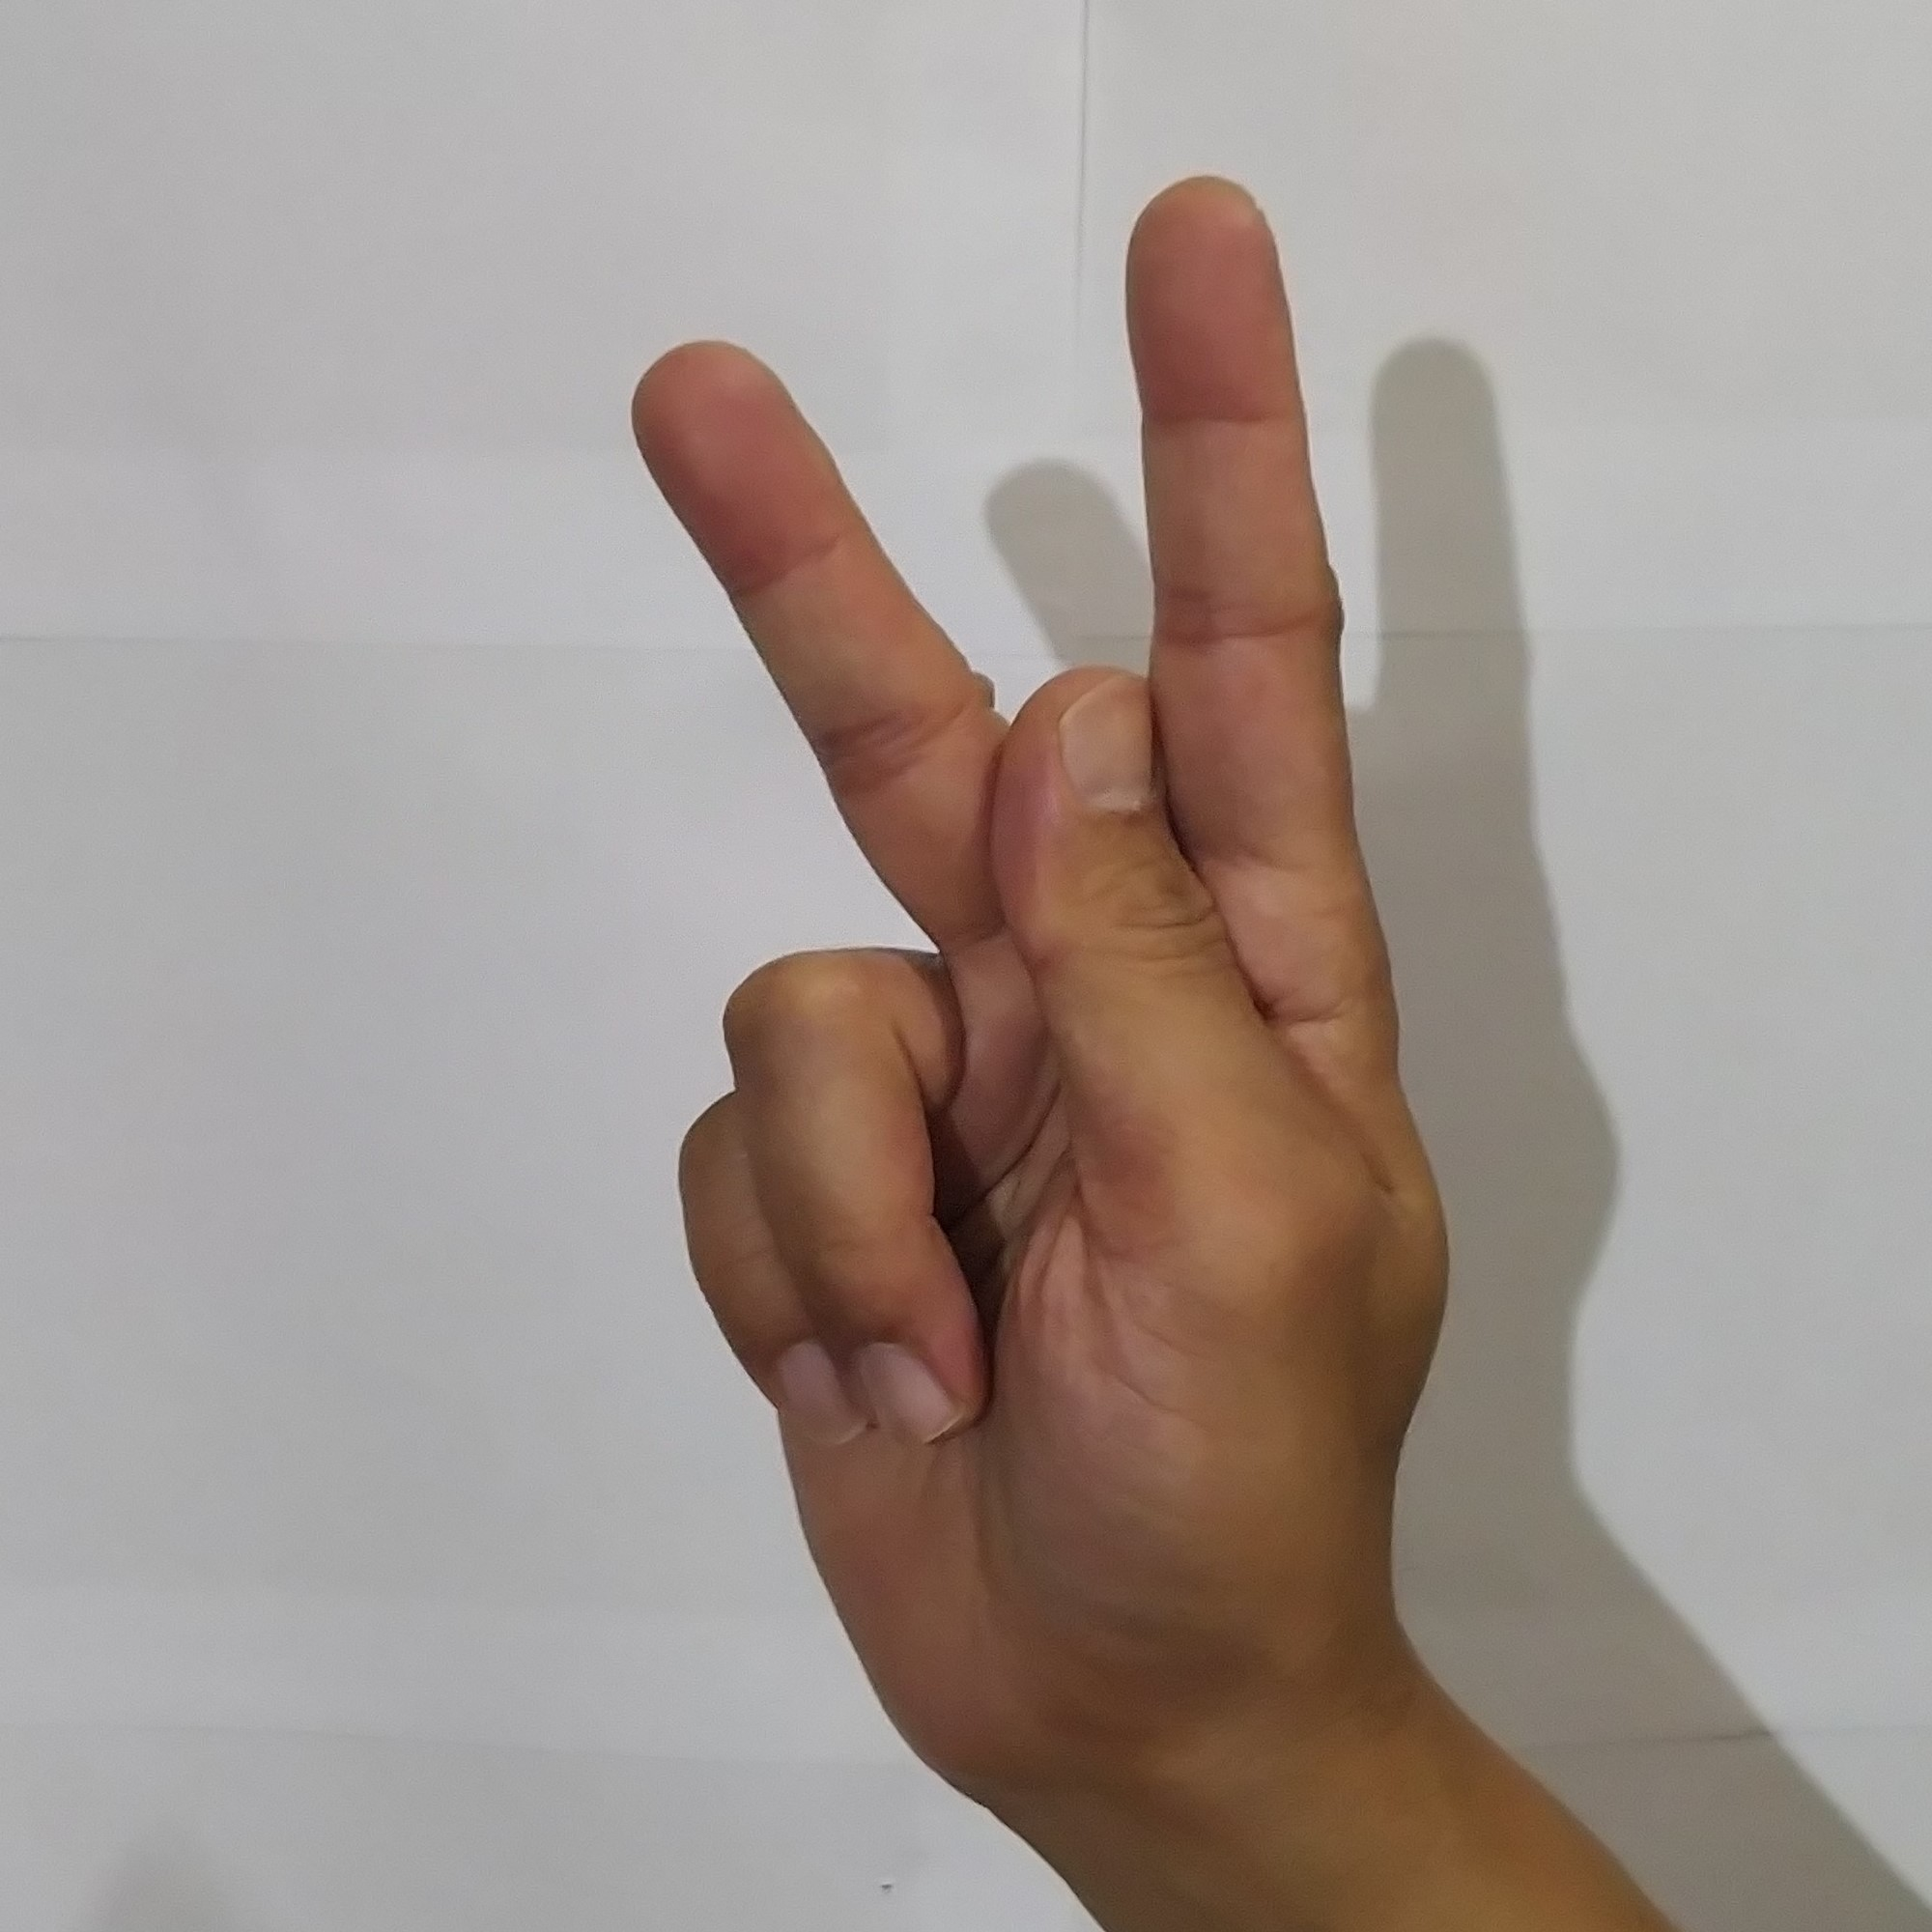K: (589, 152, 1479, 1753)
